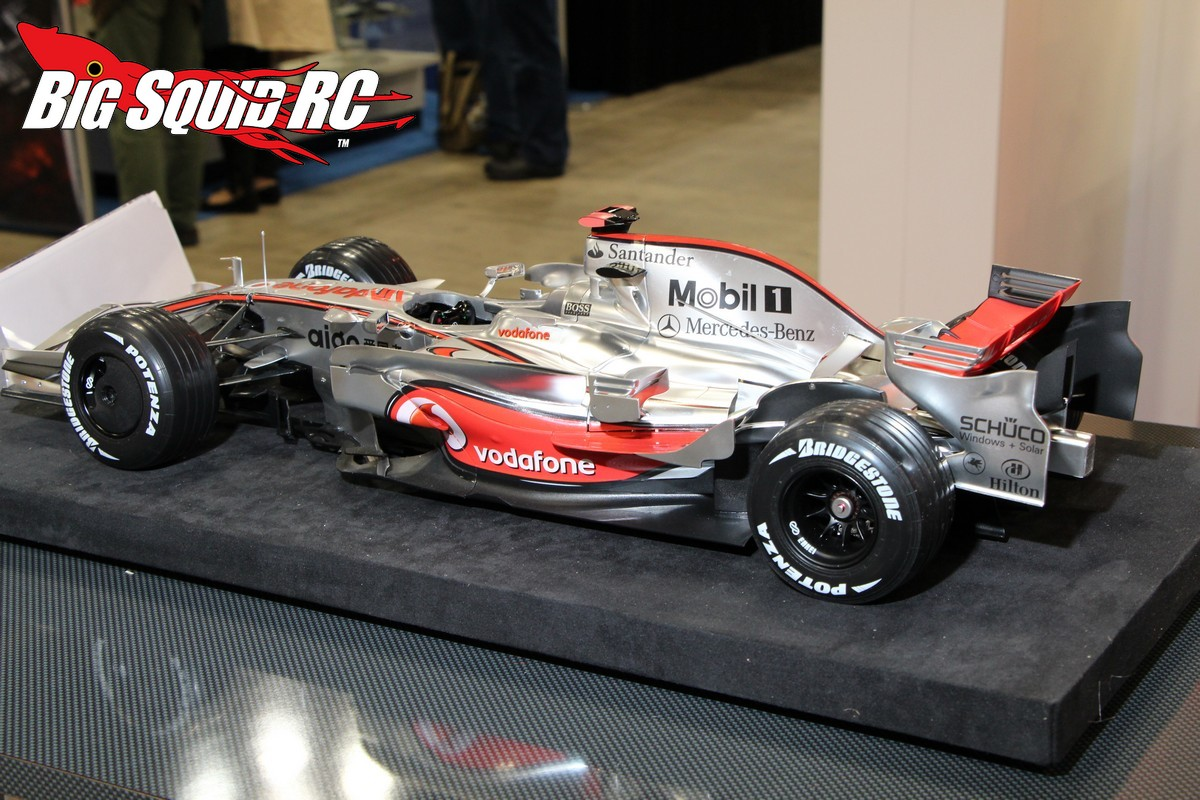f1_car: (1, 193, 1163, 619)
